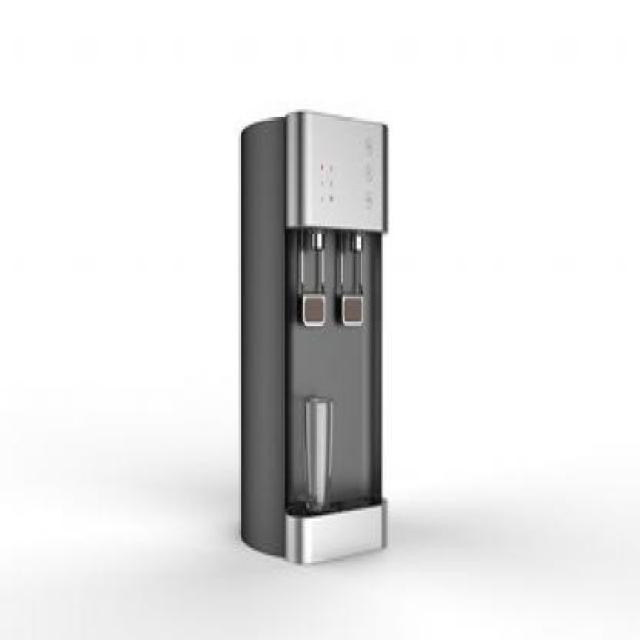cooler: (238, 106, 391, 568)
